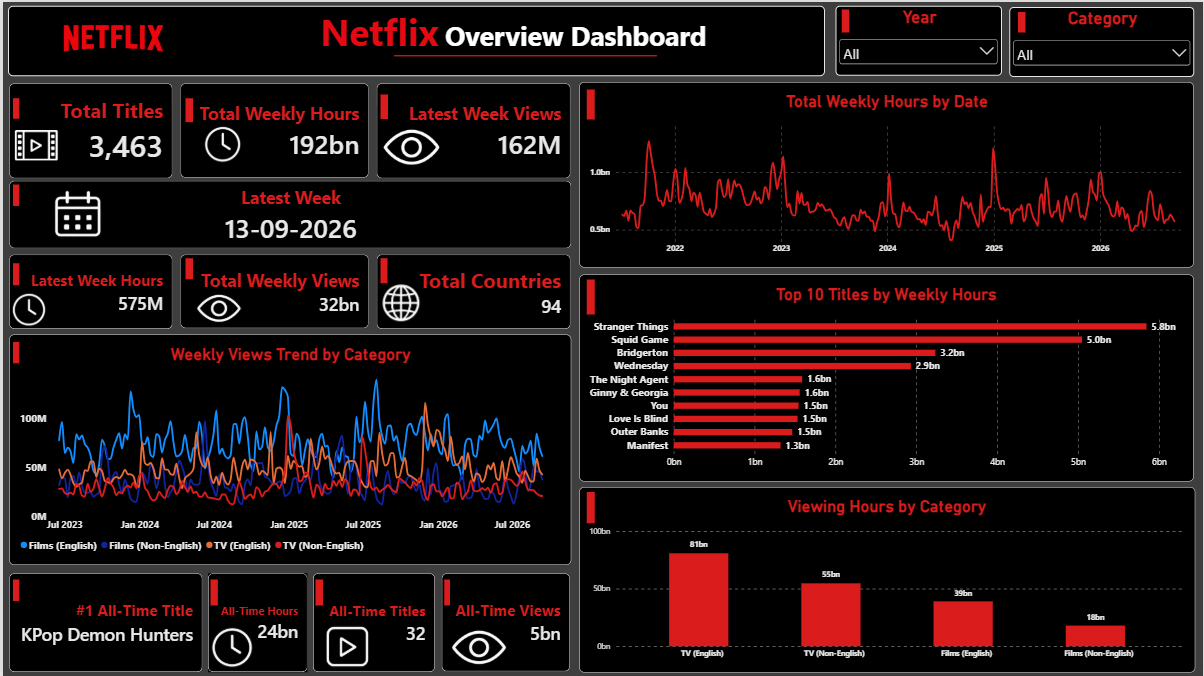

The page's visual inventory and layout, read from the dashboard file:
{"tool":"powerbi","page":{"name":"Overview","canvas":[1920,1080],"ordinal":0},"visuals":[{"type":"cardVisual","fields":{"Data":["Global Weekly.Total Titles"]},"box":[9,129,261,152],"z":0},{"type":"cardVisual","fields":{"Data":["Global Weekly.Total Weekly Hours"]},"box":[283.3,129.2,301.7,151.7],"z":1000},{"type":"cardVisual","fields":{"Data":["Global Weekly.Total Weekly Views"]},"box":[283.3,403.3,301.7,118.3],"z":2000},{"type":"cardVisual","fields":{"Data":["Global Weekly.Latest Week"]},"box":[9,285,899,108],"z":3000},{"type":"cardVisual","fields":{"Data":["Global Weekly.Latest Week Hours"]},"box":[9,403,261,119],"z":4000},{"type":"cardVisual","fields":{"Data":["Global Weekly.Latest Week Views"]},"box":[598,129,310,152],"z":5000},{"type":"cardVisual","fields":{"Data":["Country Weekly.Total Countries"]},"box":[598,403,310,119],"z":6000},{"type":"cardVisual","title":"All ccdcudcd","fields":{"Data":["Global All-Time.#1 All-Time Title"]},"box":[9,914,309,158],"z":7000},{"type":"cardVisual","title":"All Time hours","fields":{"Data":["Global All-Time.All-Time Hours"]},"box":[327,914,159,158],"z":8000},{"type":"cardVisual","fields":{"Data":["Global All-Time.All-Time Titles"]},"box":[495,914,195,158],"z":9000},{"type":"cardVisual","fields":{"Data":["Global All-Time.All-Time Views"]},"box":[702.2,914.4,205.6,157.8],"z":10000},{"type":"lineChart","fields":{"Category":["Date.Date"],"Y":["Global Weekly.Total Weekly Hours"]},"box":[922.2,128.9,983.3,296.7],"z":11000},{"type":"slicer","title":"Category","fields":{"Values":["Global Weekly.category"]},"box":[1610,7.1,296,112],"z":12000},{"type":"clusteredBarChart","title":"Top 10 Titles by Weekly Hours","fields":{"Category":["Global Weekly.show_title"],"Y":["Global Weekly.Total Weekly Hours"]},"box":[922.2,435.6,983.3,331.1],"z":13000},{"type":"slicer","title":"Year","fields":{"Values":["Date.Year"]},"box":[1332.2,6.7,266,112],"z":14000},{"type":"clusteredColumnChart","title":"Viewing Hours by Category","fields":{"Category":["Global Weekly.category"],"Y":["Global Weekly.Total Weekly Hours"]},"box":[922.2,775.6,985.6,296.7],"z":15000},{"type":"lineChart","title":"Weekly Views Trend by Category","fields":{"Category":["Date.Date"],"Y":["Global Weekly.Total Weekly Views"],"Series":["Global Weekly.category"]},"box":[9,531,899,369],"z":16000},{"type":"textbox","box":[8.6,5.7,1307.1,112.9],"z":17000},{"type":"shape","box":[626,8,420,156],"z":18000},{"type":"image","box":[10,16,334,92],"z":19000},{"type":"image","box":[0,180,106,98],"z":20000},{"type":"image","box":[298.2,192.7,108.2,66.4],"z":21000},{"type":"image","box":[603.3,195.6,98,67],"z":22000},{"type":"image","box":[32,300,178,80],"z":23000},{"type":"image","box":[292.2,462.2,105.7,52.1],"z":24000},{"type":"image","box":[10,450,64,80],"z":25000},{"type":"image","box":[598,450,78,64],"z":26000},{"type":"image","box":[475.8,995.8,150,69.2],"z":27000},{"type":"image","box":[328,990,78,80],"z":28000},{"type":"image","box":[716,990,90,80],"z":29000},{"type":"shape","box":[933.6,139.1,12.7,48.2],"z":30000},{"type":"shape","box":[934,444,13,56],"z":31000},{"type":"shape","box":[934,784,13,50],"z":32000},{"type":"shape","box":[292.4,410,12.4,33.5],"z":33000},{"type":"shape","box":[332.4,924.1,11.8,41.8],"z":34000},{"type":"shape","box":[15.9,544.1,10,34.1],"z":35000},{"type":"shape","box":[15.9,292.9,10,34.7],"z":36000},{"type":"shape","box":[603.5,148.2,12.4,39.4],"z":37000},{"type":"shape","box":[292.4,154.7,12.4,38.2],"z":38000},{"type":"shape","box":[15.9,154.7,10,32.9],"z":39000},{"type":"shape","box":[1623,16,12,33],"z":40000},{"type":"shape","box":[706.9,923.8,9.2,41.5],"z":41000},{"type":"shape","box":[1342,12,12,37],"z":42000},{"type":"shape","box":[15.9,924.1,10,34.7],"z":43000},{"type":"shape","box":[500.8,923.8,12.3,41.5],"z":44000},{"type":"shape","box":[604.6,410,11.5,40],"z":45000},{"type":"shape","box":[15.9,417.6,10,35.3],"z":46000}]}

Visuals, with their boxes in screenshot pixels (x1, y1, x2, y2), scaled from the page's 1920x1080 canvas onto the 1204x676 screenshot:
cardVisual - Global Weekly.Total Titles: 6/81/169/176
cardVisual - Global Weekly.Total Weekly Hours: 178/81/367/176
cardVisual - Global Weekly.Total Weekly Views: 178/252/367/326
cardVisual - Global Weekly.Latest Week: 6/178/569/246
cardVisual - Global Weekly.Latest Week Hours: 6/252/169/327
cardVisual - Global Weekly.Latest Week Views: 375/81/569/176
cardVisual - Country Weekly.Total Countries: 375/252/569/327
"All ccdcudcd" cardVisual: 6/572/199/671
"All Time hours" cardVisual: 205/572/305/671
cardVisual - Global All-Time.All-Time Titles: 310/572/433/671
cardVisual - Global All-Time.All-Time Views: 440/572/569/671
lineChart - Date.Date x Global Weekly.Total Weekly Hours: 578/81/1195/266
"Category" slicer: 1010/4/1195/75
"Top 10 Titles by Weekly Hours" clusteredBarChart: 578/273/1195/480
"Year" slicer: 835/4/1002/74
"Viewing Hours by Category" clusteredColumnChart: 578/485/1196/671
"Weekly Views Trend by Category" lineChart: 6/332/569/563
textbox: 5/4/825/74
shape: 393/5/656/103
image: 6/10/216/68
image: 0/113/66/174
image: 187/121/255/162
image: 378/122/440/164
image: 20/188/132/238
image: 183/289/250/322
image: 6/282/46/332
image: 375/282/424/322
image: 298/623/392/667
image: 206/620/255/670
image: 449/620/505/670
shape: 585/87/593/117
shape: 586/278/594/313
shape: 586/491/594/522
shape: 183/257/191/278
shape: 208/578/216/605
shape: 10/341/16/362
shape: 10/183/16/205
shape: 378/93/386/117
shape: 183/97/191/121
shape: 10/97/16/117
shape: 1018/10/1025/31
shape: 443/578/449/604
shape: 842/8/849/31
shape: 10/578/16/600
shape: 314/578/322/604
shape: 379/257/386/282
shape: 10/261/16/283
